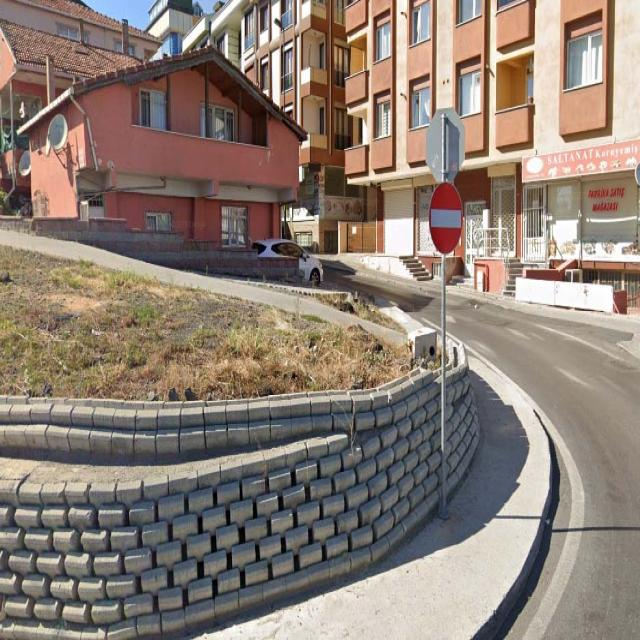girisyok: (429, 183, 463, 254)
